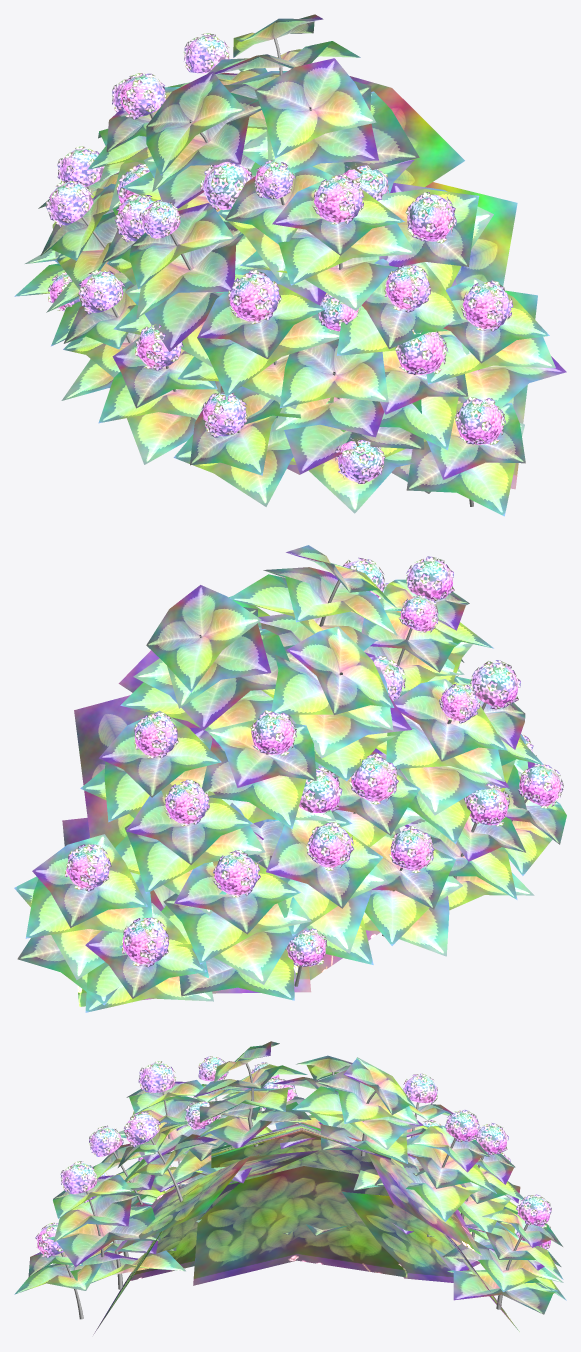
File: hydrangea_large_wall_SM.fbx
3 views of the same model, one above another, from view 1: azimuth 30°, elevation 25°; view 2: azimuth 150°, elevation 25°; view 3: azimuth 270°, elevation 25° (orthographic). The views are drawn at different scales.
Visible parts, largest first — view 1: hydrangea_large_wall_SM_LOD0; view 2: hydrangea_large_wall_SM_LOD0; view 3: hydrangea_large_wall_SM_LOD0.
Boxes of the visible parts, x1,y1,x2,y2 form: hydrangea_large_wall_SM_LOD0: (14, 14, 566, 516); hydrangea_large_wall_SM_LOD0: (14, 545, 566, 1012); hydrangea_large_wall_SM_LOD0: (14, 1041, 566, 1334).
Size of the model in its own units: 454 by 786 by 416.
Materials: 3 (2 with a texture image).
